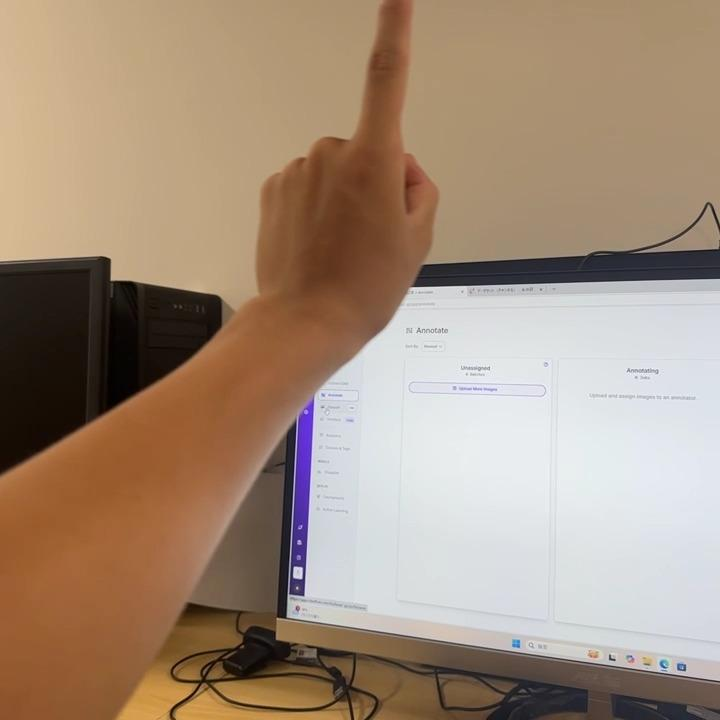without_gloves: (151, 0, 493, 383)
